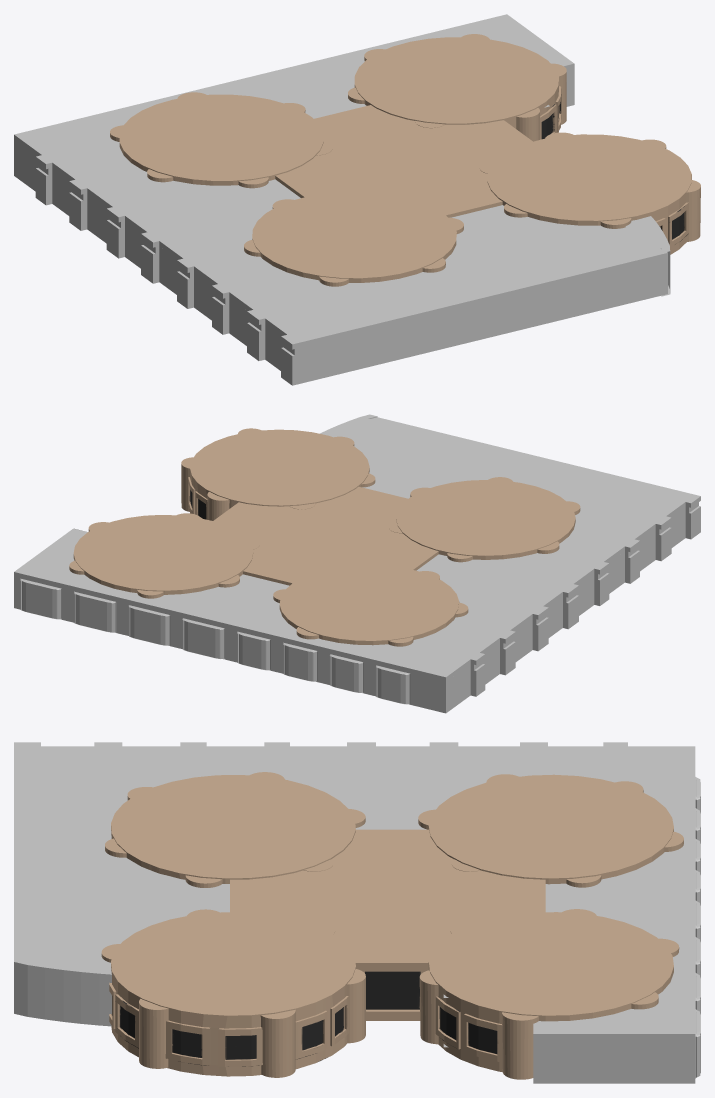
The model's file is floor2.obj.
The picture shows the model from 3 angles, top to bottom: view 1: azimuth 30°, elevation 25°; view 2: azimuth 150°, elevation 25°; view 3: azimuth 270°, elevation 25°; orthographic projection. The views are drawn at different scales.
Visible parts, largest first — view 1: Cube_Cube.003, PodC_Cylinder.011, PodD_Cylinder.008, TowerBase_Cube.004, PodA_Cylinder.012, PodB_Cylinder.013, Cube.002_Cube.005; view 2: Cube_Cube.003, PodC_Cylinder.011, TowerBase_Cube.004, PodB_Cylinder.013, PodD_Cylinder.008, PodA_Cylinder.012, Cube.002_Cube.005; view 3: Cube_Cube.003, PodC_Cylinder.011, PodD_Cylinder.008, TowerBase_Cube.004, PodB_Cylinder.013, PodA_Cylinder.012, Cube.002_Cube.005.
Part boxes in pixels (x1,y1,x2,y2): Cube_Cube.003: [14, 14, 667, 385]; PodC_Cylinder.011: [479, 132, 700, 254]; PodD_Cylinder.008: [348, 34, 566, 141]; TowerBase_Cube.004: [275, 105, 532, 217]; PodA_Cylinder.012: [244, 189, 463, 286]; PodB_Cylinder.013: [110, 92, 332, 188]; Cube.002_Cube.005: [625, 216, 670, 296]; Cube_Cube.003: [14, 417, 700, 713]; PodC_Cylinder.011: [181, 428, 375, 520]; TowerBase_Cube.004: [213, 486, 438, 585]; PodB_Cylinder.013: [273, 563, 468, 646]; PodD_Cylinder.008: [69, 513, 259, 598]; PodA_Cylinder.012: [388, 477, 580, 562]; Cube.002_Cube.005: [320, 414, 384, 437]; Cube_Cube.003: [14, 742, 700, 1083]; PodC_Cylinder.011: [101, 909, 365, 1077]; PodD_Cylinder.008: [419, 909, 679, 1079]; TowerBase_Cube.004: [230, 829, 545, 1020]; PodB_Cylinder.013: [418, 774, 683, 887]; PodA_Cylinder.012: [105, 772, 365, 887]; Cube.002_Cube.005: [14, 948, 111, 1026].
Bounding box in the file's own units: 9.84 × 0.9571 × 9.8.
